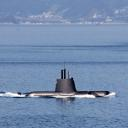submarine: (14, 80, 112, 98)
